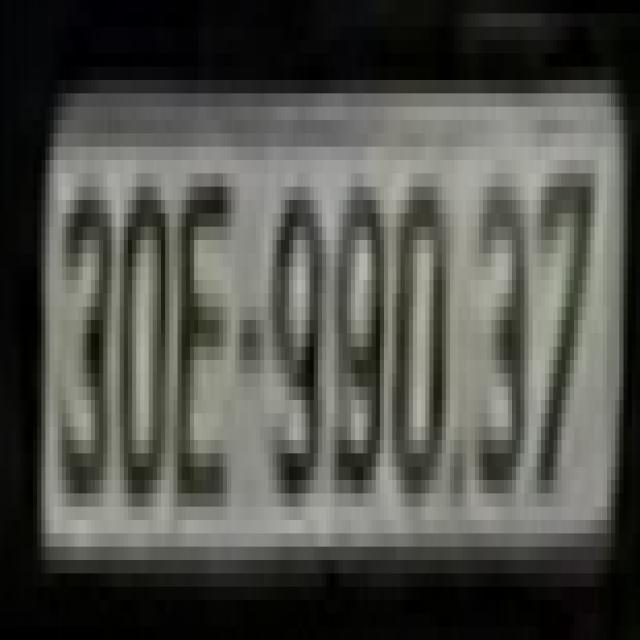0: (116, 173, 169, 507), (392, 174, 446, 494)
3: (471, 174, 528, 494), (58, 186, 111, 506)
7: (536, 160, 594, 493)
9: (268, 173, 322, 507), (330, 174, 384, 494)
E: (173, 173, 236, 507)
